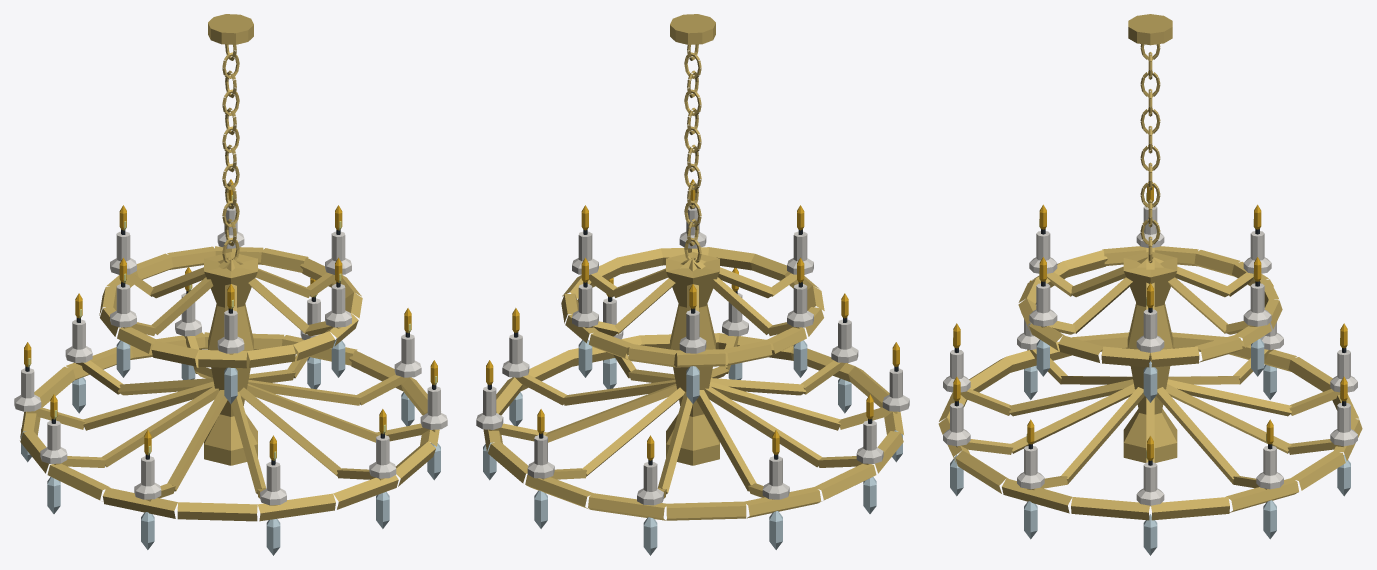
File: palace_chandelier.glb
3 renders of one model, left to right at view 1: azimuth 30°, elevation 25°; view 2: azimuth 150°, elevation 25°; view 3: azimuth 270°, elevation 25°, orthographic.
Parts seen in each view (by area): view 1: palace_chandelier; view 2: palace_chandelier; view 3: palace_chandelier.
Part boxes in pixels (<box>): palace_chandelier: <box>14,14,447,555</box>; palace_chandelier: <box>476,14,909,555</box>; palace_chandelier: <box>938,14,1362,555</box>.
Bounding box in the file's own units: 1.69 × 1.91 × 1.65.
